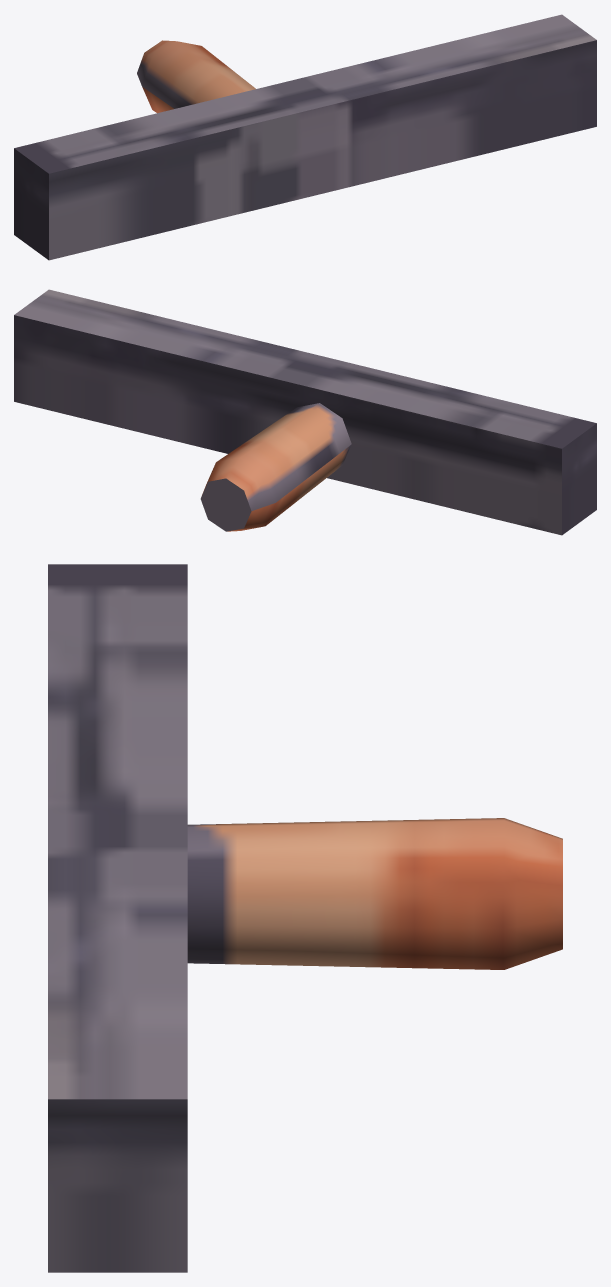
The model's file is rifle_bolt.fbx.
3 renders of one model, top to bottom at view 1: azimuth 30°, elevation 25°; view 2: azimuth 150°, elevation 25°; view 3: azimuth 270°, elevation 25°, orthographic. The views are drawn at different scales.
Visible parts, largest first — view 1: rifle_bolt; view 2: rifle_bolt; view 3: rifle_bolt.
Boxes of the visible parts, left/top/right/bottom form: rifle_bolt: left=14, top=14, right=596, bottom=260; rifle_bolt: left=14, top=289, right=596, bottom=535; rifle_bolt: left=48, top=564, right=562, bottom=1272.
Size of the model in its own units: 0.3225 by 0.0488 by 0.1313.
